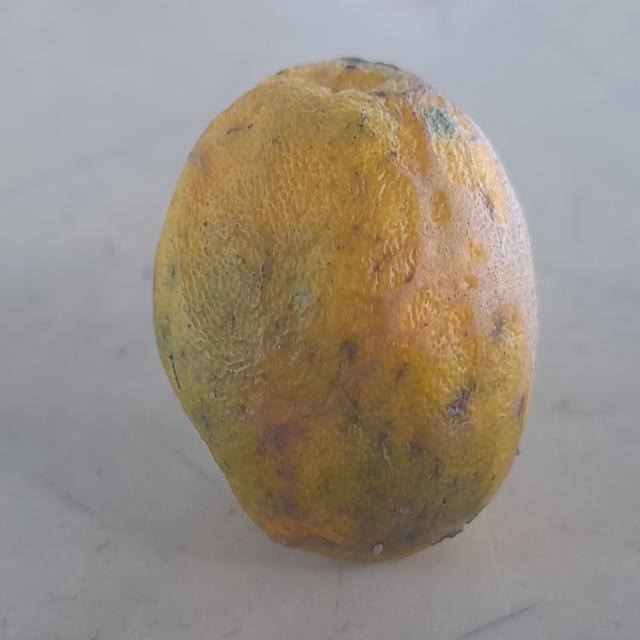black spot: (143, 52, 539, 565)
